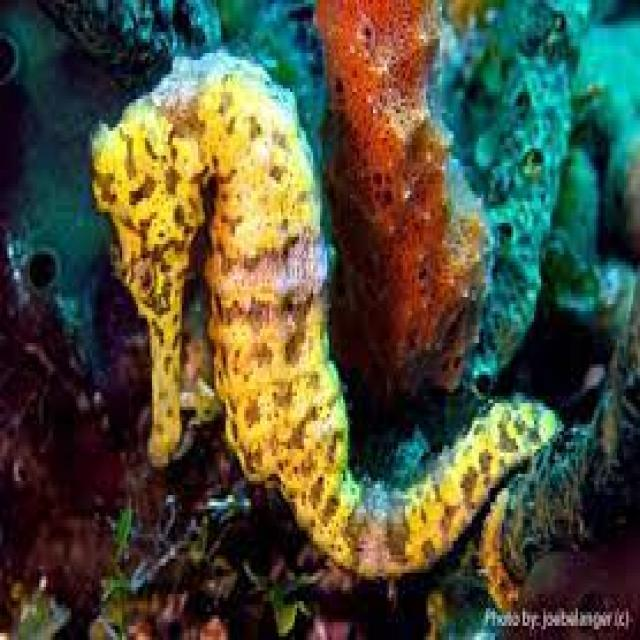SeaHorse: (90, 74, 560, 580)
